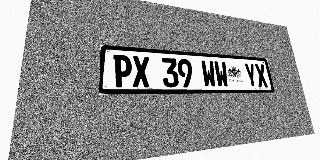3: (162, 58, 179, 87)
9: (177, 59, 194, 87)
P: (113, 54, 132, 87)
W: (201, 60, 217, 87), (214, 61, 229, 87)
X: (132, 56, 150, 87), (254, 64, 269, 87)
Y: (243, 63, 258, 87)
